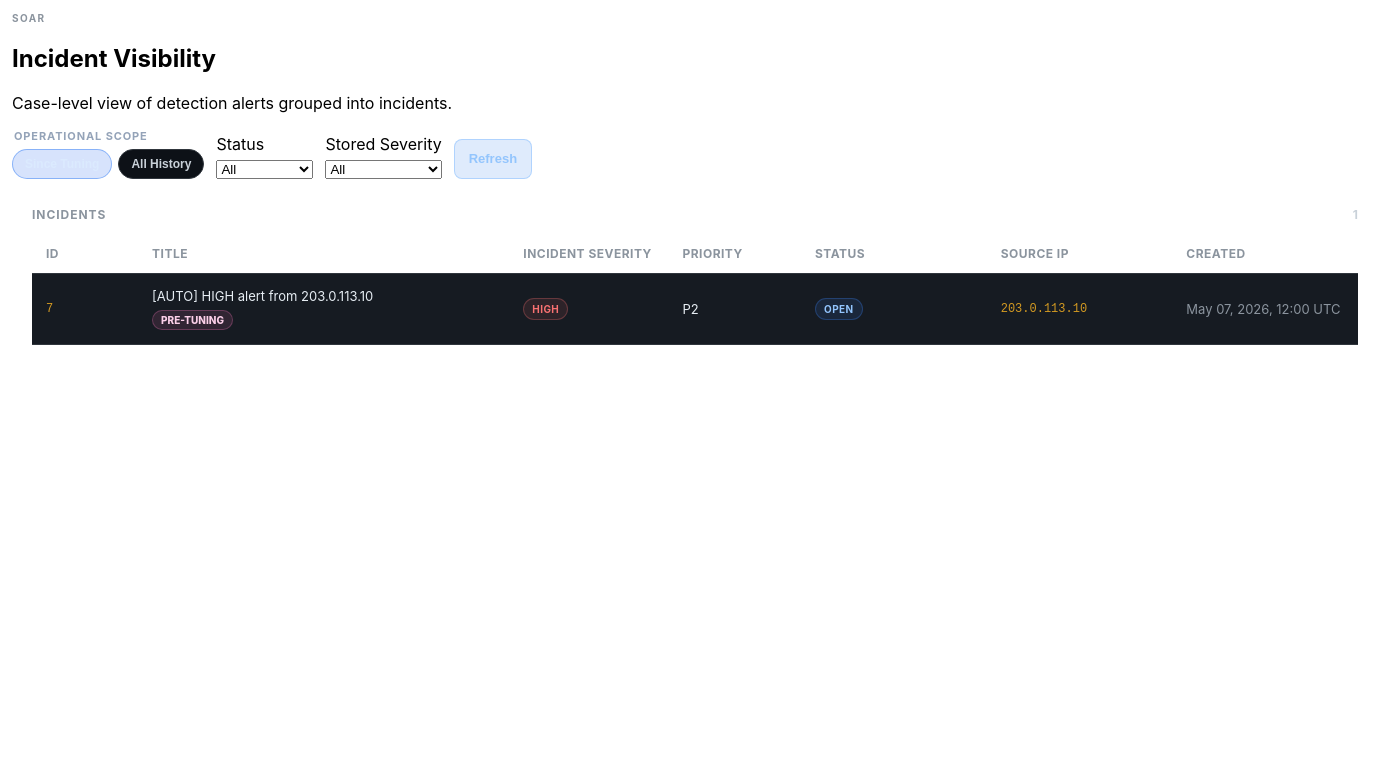
Scenario: IncidentsPanel › renders incident detail
Click the text "[AUTO] HIGH alert from 203.0.113.10".
click(263, 296)  # box [152, 288, 373, 304]
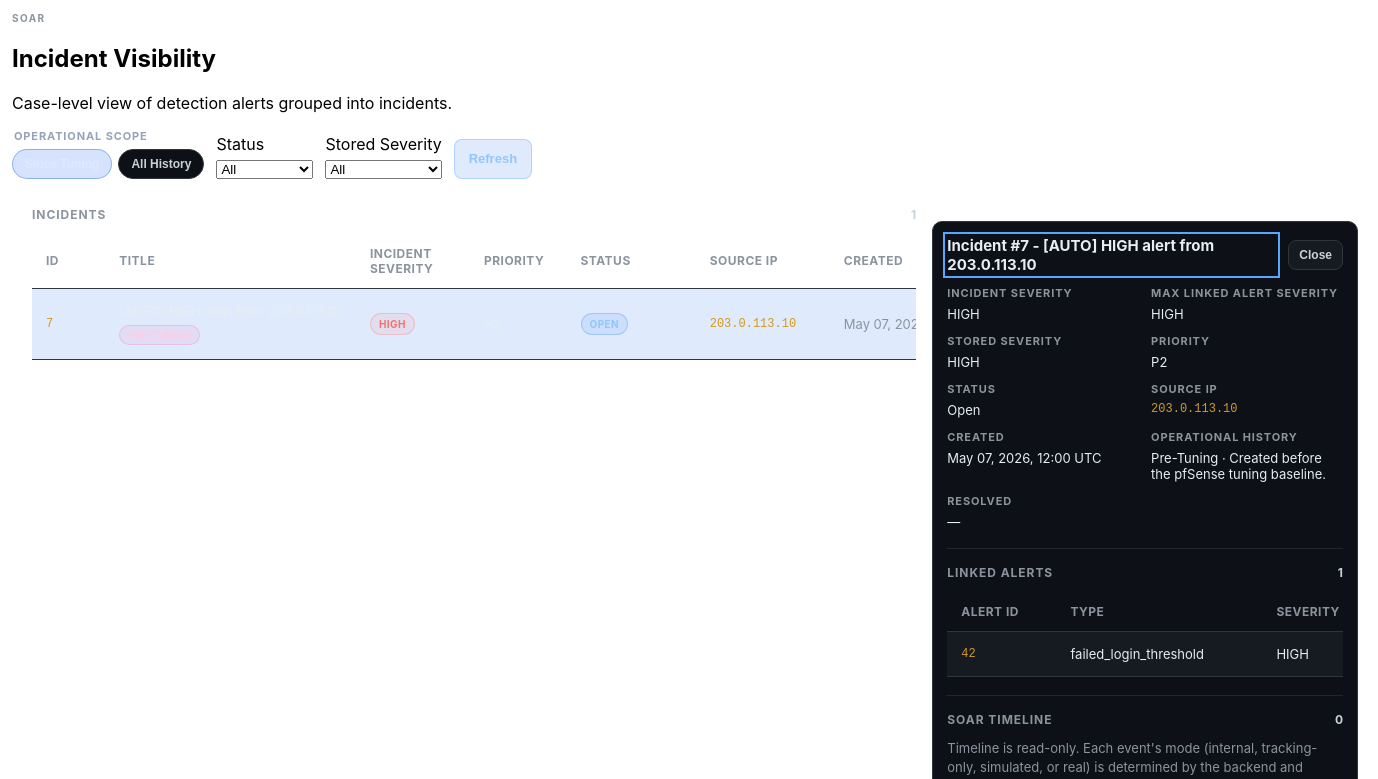
Expected: the text "P2" is shown, [470, 288, 567, 359]
Expected: the heading "Incident #7 - [AUTO] HIGH alert from 203.0.113.10" is shown, [947, 236, 1214, 274]
